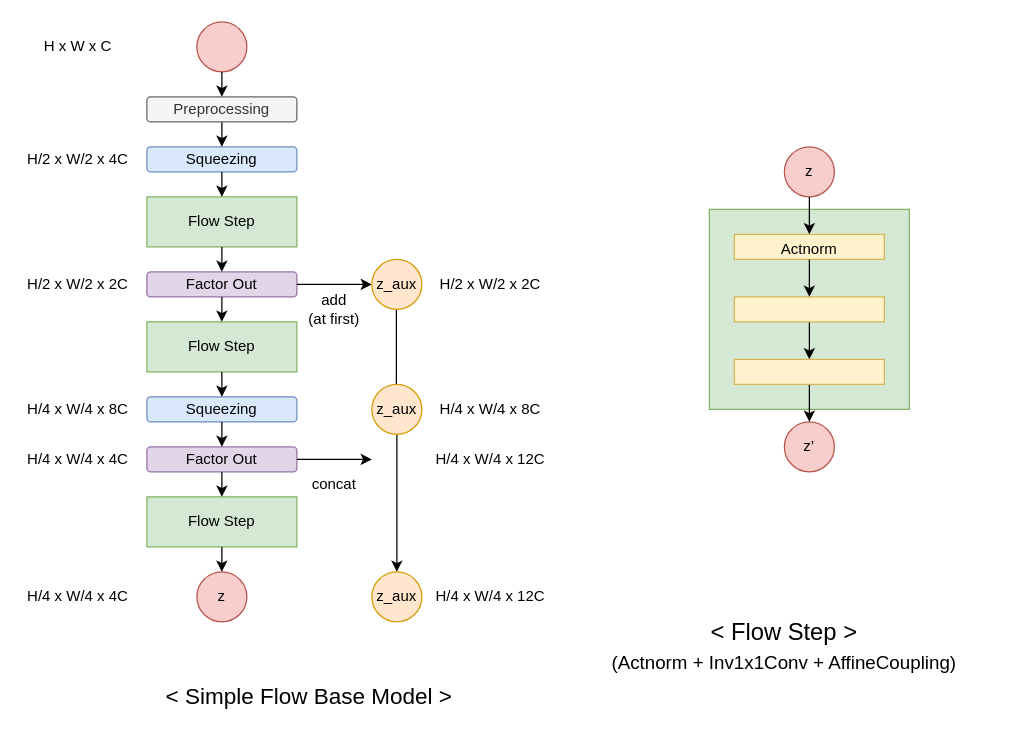
Image size: 1030x733. Some labels were removed from this diagram. Each missing label, with the box of its shape:
Affine Coupling: (733, 358, 884, 384)
image: (196, 21, 247, 72)
Inv1x1Conv: (733, 296, 884, 322)
